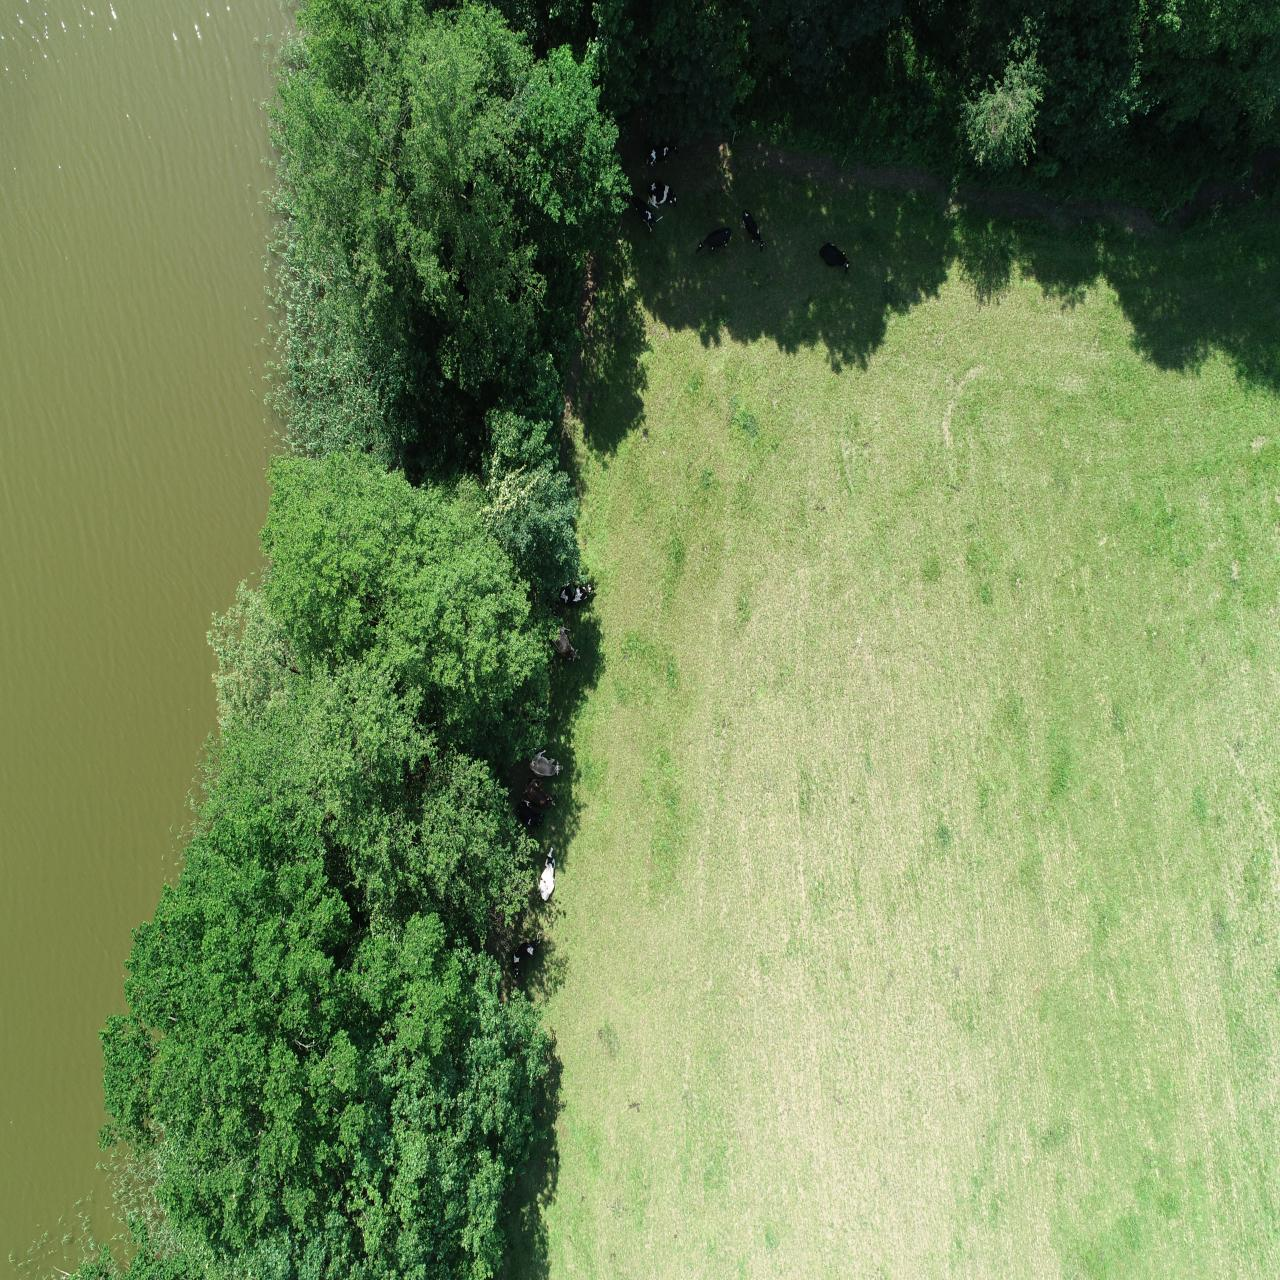cow: (815, 236, 853, 277), (545, 621, 583, 663), (694, 225, 734, 263), (738, 205, 768, 256), (533, 844, 558, 903), (524, 748, 565, 779), (553, 578, 595, 608), (642, 178, 682, 209), (518, 782, 558, 811), (641, 142, 679, 170), (632, 203, 665, 234)
